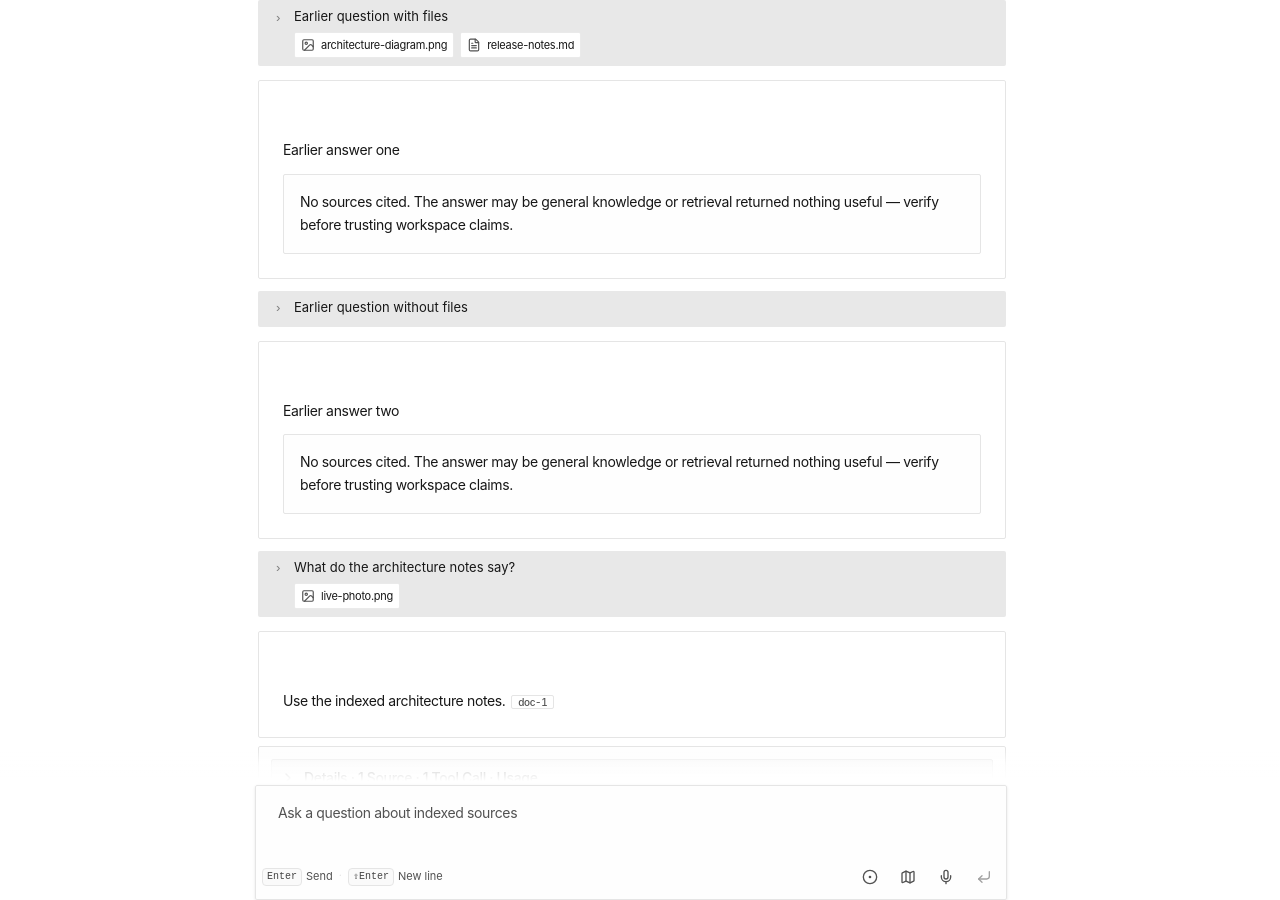
Test: ChatWorkspacePanel › shows read-only attachment chips under questions that carried files
The width and height of the screenshot is (1280, 900).
Check: the number of lists is 2, box x1=294 y1=32 x2=581 y2=58; x1=294 y1=583 x2=400 y2=609
Check: the list "architecture-diagram.png release-notes.md" is shown, box x1=294 y1=32 x2=581 y2=58
Click the button with aria-label "Open attachment architecture-diagram.png" at [374, 45], box x1=294 y1=32 x2=454 y2=58
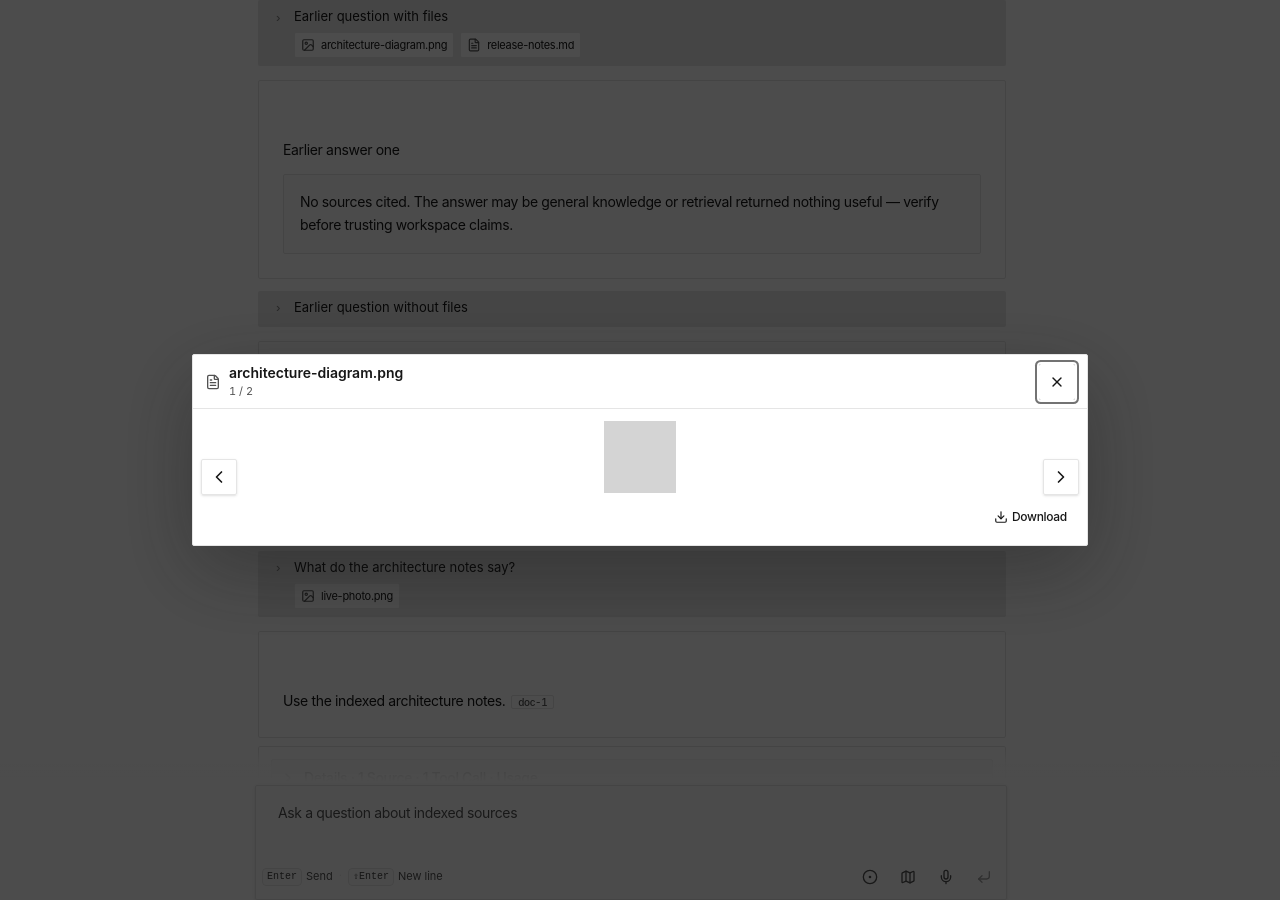
Check: the dialog is shown
Check: the heading "architecture-diagram.png" is shown, box x1=229 y1=363 x2=403 y2=383
